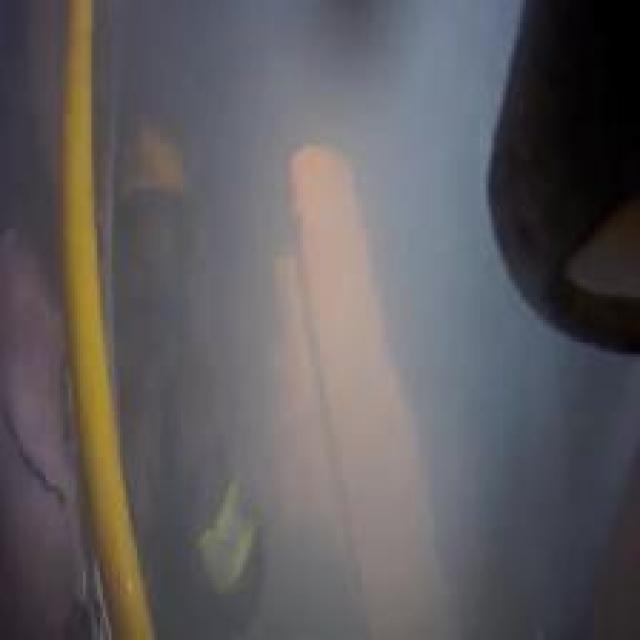other: (33, 28, 168, 618)
